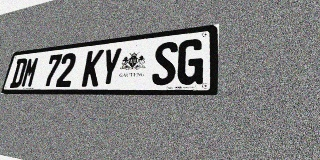2: (55, 52, 77, 87)
7: (42, 54, 63, 87)
D: (9, 58, 28, 88)
G: (176, 38, 205, 85)
K: (81, 49, 104, 87)
M: (20, 56, 40, 88)
S: (151, 41, 178, 85)
Y: (98, 47, 123, 86)
